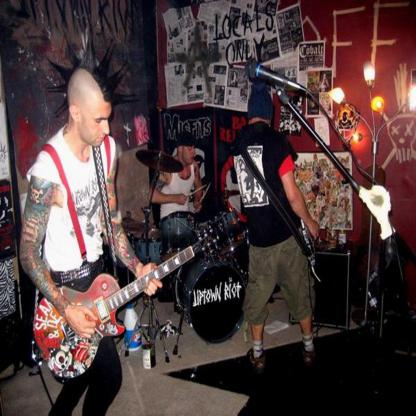face: (77, 89, 112, 148), (183, 138, 197, 164)
